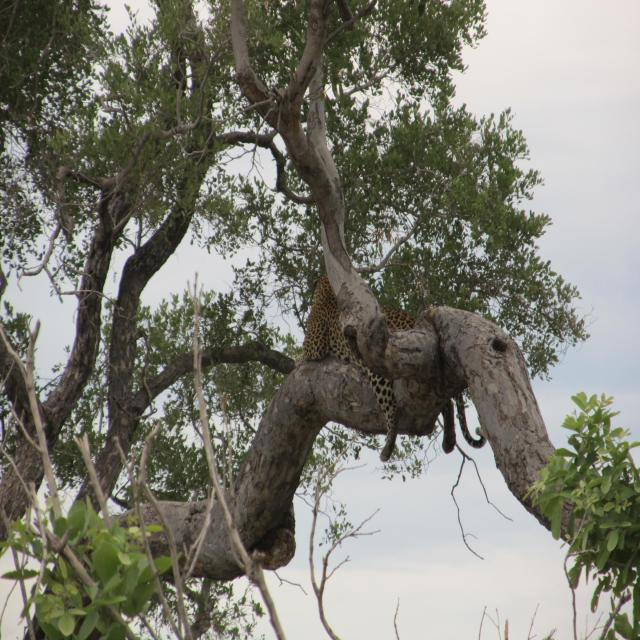Leopard: (310, 280, 488, 463)
